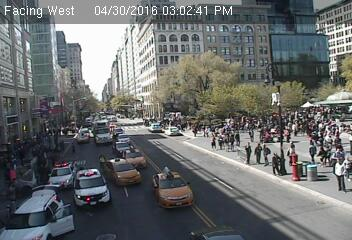neg: (54, 160, 71, 183), (53, 99, 67, 118), (152, 120, 162, 134), (80, 128, 90, 142), (166, 108, 176, 121), (260, 53, 267, 63), (111, 76, 116, 83)
pos: (327, 157, 351, 191), (267, 149, 285, 172), (1, 161, 17, 183), (306, 139, 319, 156), (252, 141, 265, 157), (232, 130, 243, 145), (260, 143, 270, 157), (287, 139, 297, 153), (228, 134, 238, 146), (217, 133, 226, 146), (243, 142, 252, 154), (247, 127, 256, 139), (190, 123, 199, 135), (210, 135, 218, 146), (285, 129, 291, 137)
